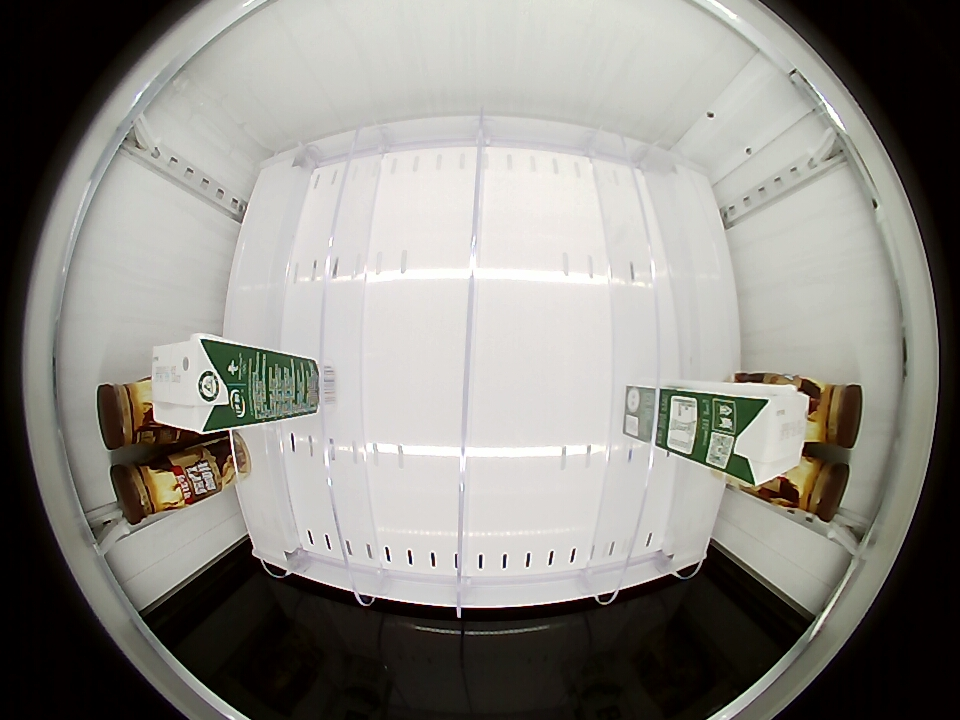jindian: (716, 379, 811, 487), (149, 336, 248, 435)
lujikafei: (110, 452, 188, 524), (791, 376, 864, 449), (97, 377, 163, 450), (781, 455, 850, 523)
